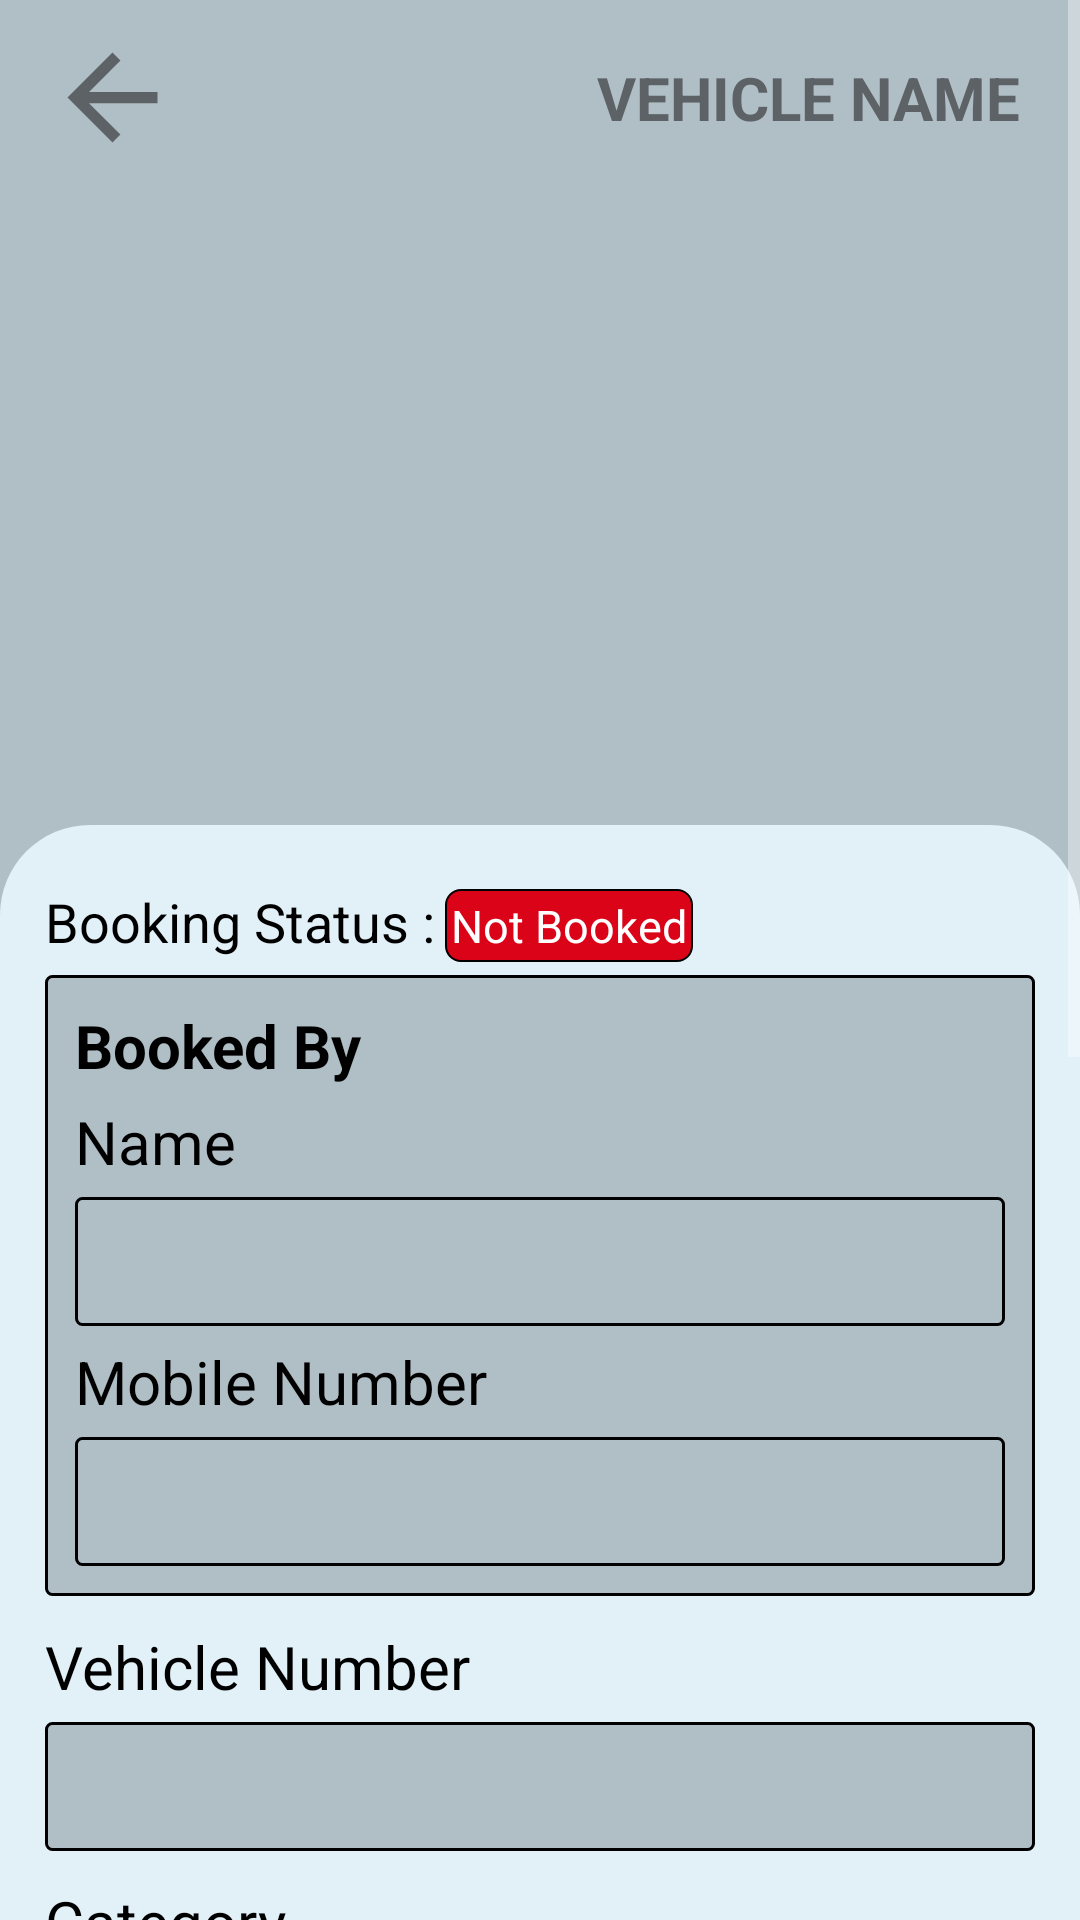

Icon bounding boxes for this 1080px×1920px phone screenshot, format (x1,y1,x2,y2):
back: (68,53,158,142)
